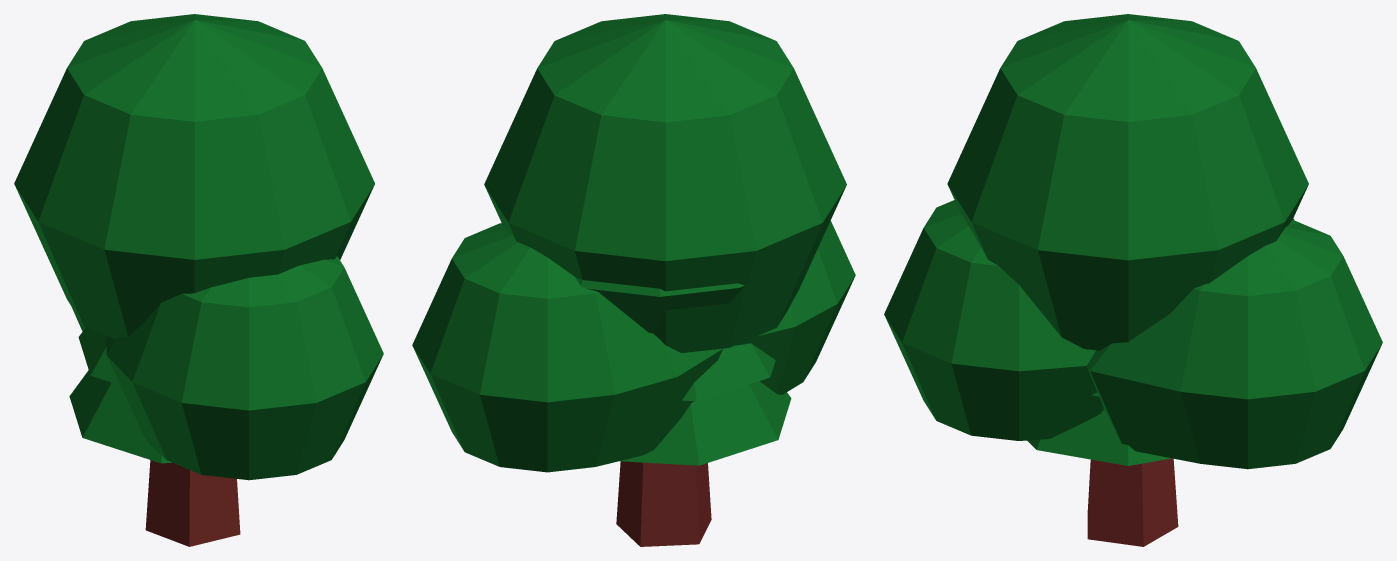
File: Tree Module.fbx
3 views of the same model, side by side, from view 1: azimuth 30°, elevation 25°; view 2: azimuth 150°, elevation 25°; view 3: azimuth 270°, elevation 25° (orthographic).
Visible parts, largest first — view 1: Triple Round TreeTop, RoundTreetop, Trunk B, Pine Treetop; view 2: Triple Round TreeTop, RoundTreetop, Pine Treetop, Trunk B; view 3: Triple Round TreeTop, RoundTreetop, Trunk B, Pine Treetop.
Part boxes in pixels (bbox=[...]): Triple Round TreeTop: bbox=[14, 14, 374, 339]; RoundTreetop: bbox=[72, 256, 383, 480]; Trunk B: bbox=[145, 460, 240, 546]; Pine Treetop: bbox=[69, 327, 171, 463]; Triple Round TreeTop: bbox=[484, 14, 846, 353]; RoundTreetop: bbox=[412, 220, 855, 472]; Pine Treetop: bbox=[619, 343, 791, 465]; Trunk B: bbox=[616, 461, 711, 546]; Triple Round TreeTop: bbox=[947, 14, 1308, 350]; RoundTreetop: bbox=[884, 200, 1382, 469]; Trunk B: bbox=[1087, 458, 1178, 546]; Pine Treetop: bbox=[1027, 392, 1171, 465].
Size of the model in its own units: 400 by 585 by 522.
